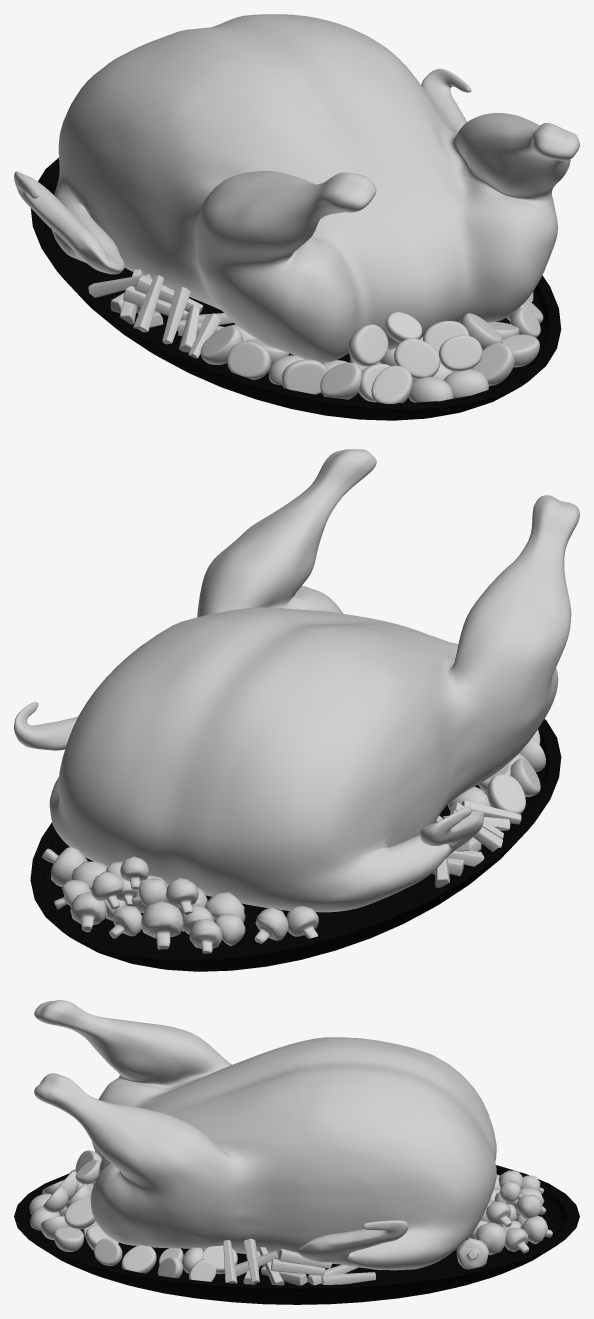
File: Pollo combo.fbx
3 views of the same model, one above another, from view 1: azimuth 30°, elevation 25°; view 2: azimuth 150°, elevation 25°; view 3: azimuth 270°, elevation 25° (orthographic). The views are drawn at different scales.
Parts seen in each view (by area): view 1: Pollo, Assets:m_Plate3, pCube35, pCube43, pCube44, pCube37, pCube34, pCube39, pCube36, pCube22, pCube42, pCube33 (+14 smaller); view 2: Pollo, Assets:m_Plate3, pCube59, pCube42, pCube70, pCube54, pCube56, pCube67, pCube73, pCube57, pCube71, pCube61 (+5 smaller); view 3: Pollo, Assets:m_Plate3, pCube54, pCube14, pCube26, pCube53, pCube23, pCube19, pCube10, pCube70, pCube48, pCube63 (+11 smaller).
Boxes of the visible parts, x1,y1,x2,y2 form: Pollo: [14, 14, 579, 362]; Assets:m_Plate3: [30, 157, 561, 420]; pCube35: [394, 338, 440, 379]; pCube43: [227, 341, 271, 379]; pCube44: [348, 324, 388, 366]; pCube37: [371, 365, 412, 403]; pCube34: [439, 335, 482, 371]; pCube39: [282, 359, 327, 394]; pCube36: [320, 362, 361, 399]; pCube22: [471, 343, 514, 385]; pCube42: [200, 325, 243, 364]; pCube33: [444, 369, 488, 398]; Pollo: [14, 449, 579, 912]; Assets:m_Plate3: [30, 719, 561, 971]; pCube59: [141, 900, 183, 949]; pCube42: [487, 774, 525, 814]; pCube70: [70, 892, 106, 931]; pCube54: [42, 847, 87, 886]; pCube56: [254, 907, 288, 943]; pCube67: [189, 919, 222, 953]; pCube73: [165, 877, 198, 915]; pCube57: [286, 906, 318, 938]; pCube71: [91, 871, 123, 909]; pCube61: [109, 905, 142, 938]; Pollo: [34, 1000, 496, 1270]; Assets:m_Plate3: [14, 1165, 579, 1304]; pCube54: [456, 1238, 489, 1269]; pCube14: [121, 1245, 156, 1273]; pCube26: [64, 1197, 95, 1229]; pCube53: [475, 1222, 506, 1255]; pCube23: [54, 1227, 83, 1251]; pCube19: [94, 1238, 122, 1265]; pCube10: [271, 1258, 325, 1275]; pCube70: [522, 1216, 552, 1243]; pCube48: [321, 1272, 375, 1284]; pCube63: [486, 1201, 511, 1227].
Size of the model in its own units: 24.79 by 15.52 by 35.87.
